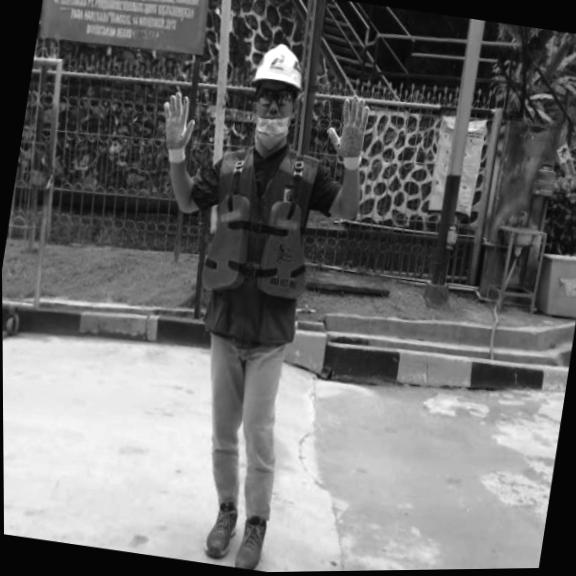safety_vest: (197, 190, 318, 308)
